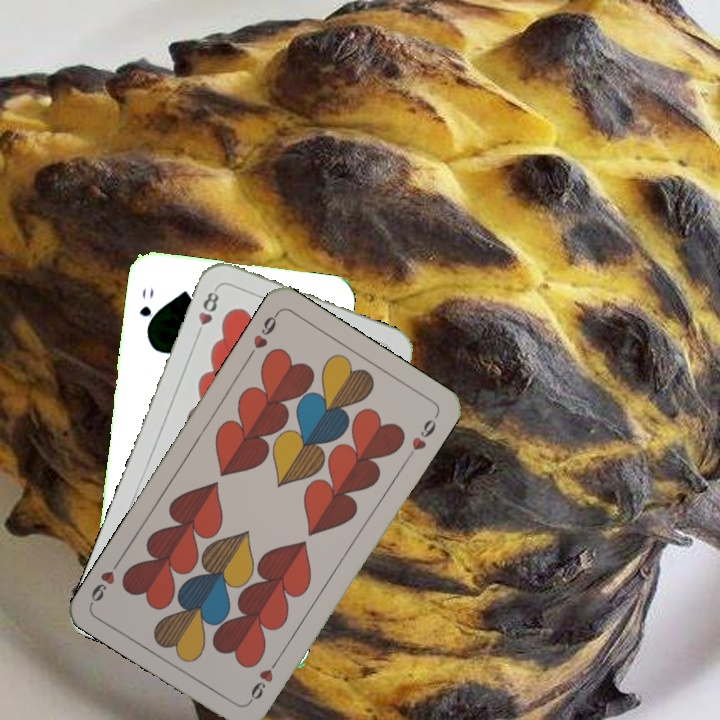GO: (135, 284, 157, 335)
H8: (192, 284, 222, 341)
H9: (243, 308, 281, 361), (244, 653, 282, 706)
